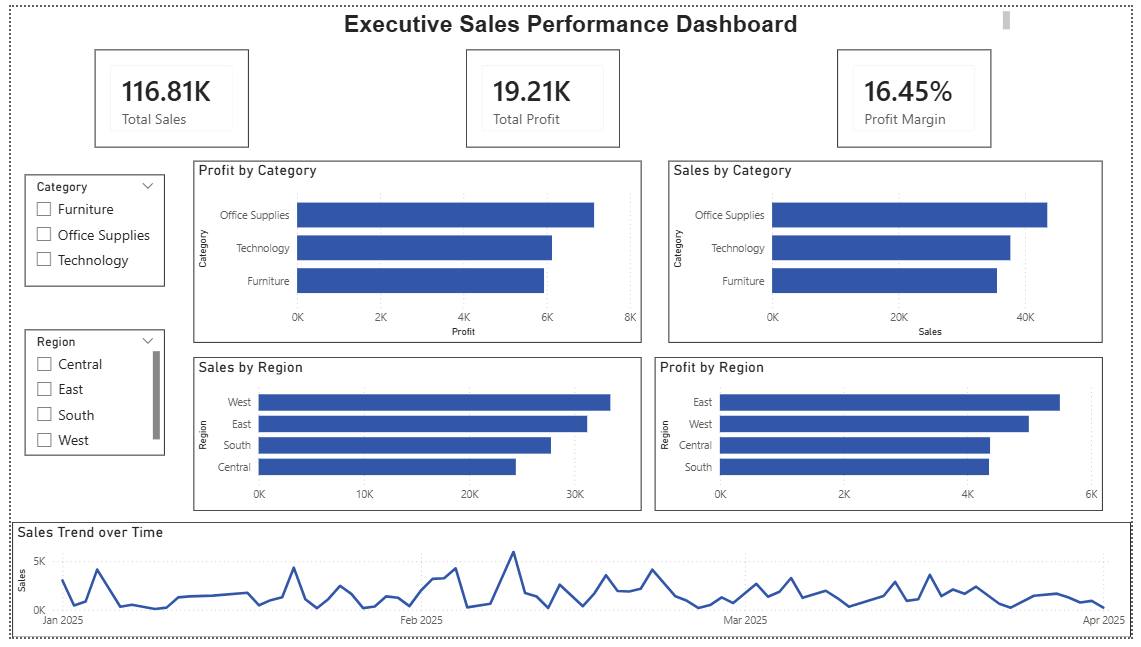

Layout of this report page (visuals, bound fields, positions):
{"tool":"powerbi","page":{"name":"Page 1","canvas":[1280,720],"ordinal":0},"visuals":[{"type":"cardVisual","fields":{"Data":["Sum(SalesData.Sales)"]},"box":[96,48,176,112],"z":0},{"type":"cardVisual","fields":{"Data":["Sum(SalesData.Profit)"]},"box":[520,48,176,112],"z":1000},{"type":"clusteredBarChart","title":"Sales by Category","fields":{"Category":["SalesData.Category"],"Y":["Sum(SalesData.Sales)"]},"box":[752,176,496,208],"z":2000},{"type":"clusteredBarChart","title":"Profit by Category","fields":{"Category":["SalesData.Category"],"Y":["Sum(SalesData.Profit)"]},"box":[208,176,512,208],"z":3000},{"type":"lineChart","title":"Sales Trend over Time","fields":{"Category":["SalesData.Order_Date"],"Y":["Sum(SalesData.Sales)"]},"box":[1.7,588.3,1278.3,131.7],"z":4000},{"type":"cardVisual","fields":{"Data":["SalesData.Profit Margin"]},"box":[944,48,176,112],"z":5000},{"type":"clusteredBarChart","title":"Sales by Region","fields":{"Category":["SalesData.Region"],"Y":["Sum(SalesData.Sales)"]},"box":[208,400,512,176],"z":6000},{"type":"clusteredBarChart","title":"Profit by Region","fields":{"Category":["SalesData.Region"],"Y":["Sum(SalesData.Profit)"]},"box":[736,400,512,176],"z":7000},{"type":"slicer","fields":{"Values":["SalesData.Category"]},"box":[16,192,160,128],"z":8000},{"type":"slicer","fields":{"Values":["SalesData.Region"]},"box":[16,368,160,144],"z":9000},{"type":"textbox","box":[140,0,1006.7,35],"z":10000}]}

Visuals, with their boxes in screenshot pixels (x1, y1, x2, y2), scaled from the page's 1280x720 canvas onto the 1141x647 screenshot:
cardVisual - Sum(SalesData.Sales): l=86, t=43, r=242, b=144
cardVisual - Sum(SalesData.Profit): l=464, t=43, r=620, b=144
"Sales by Category" clusteredBarChart: l=670, t=158, r=1112, b=345
"Profit by Category" clusteredBarChart: l=185, t=158, r=642, b=345
"Sales Trend over Time" lineChart: l=2, t=529, r=1140, b=646
cardVisual - SalesData.Profit Margin: l=841, t=43, r=998, b=144
"Sales by Region" clusteredBarChart: l=185, t=359, r=642, b=518
"Profit by Region" clusteredBarChart: l=656, t=359, r=1112, b=518
slicer - SalesData.Category: l=14, t=173, r=157, b=288
slicer - SalesData.Region: l=14, t=331, r=157, b=460
textbox: l=125, t=0, r=1022, b=31
